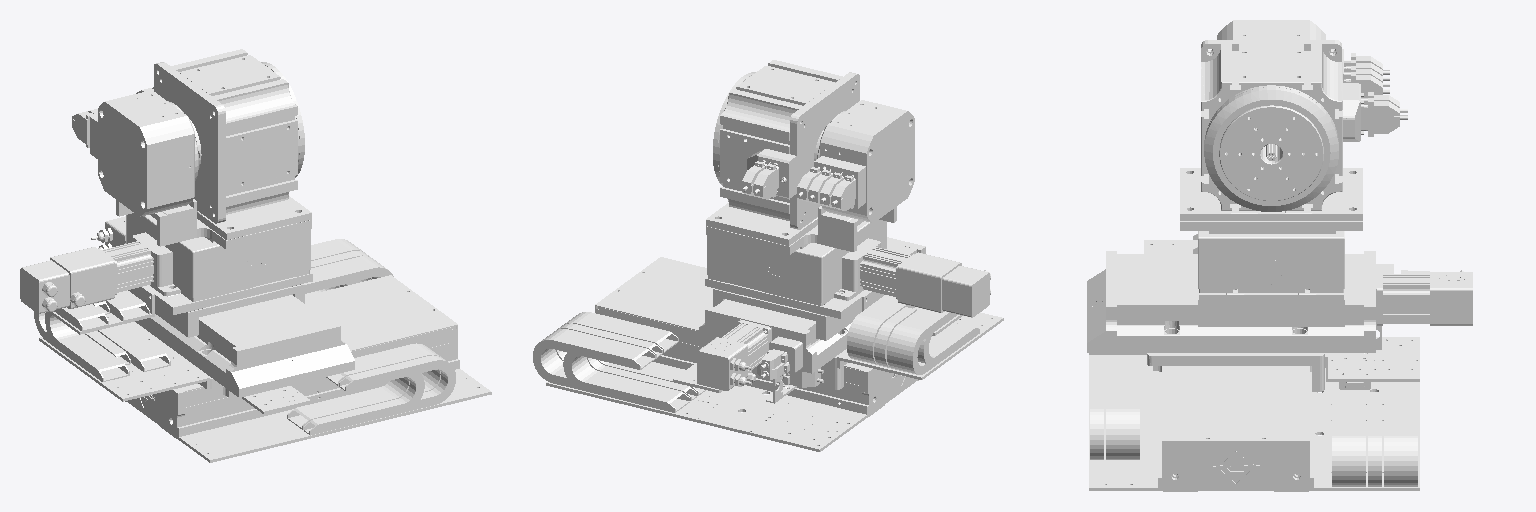
URDF robot description (Aeroteech):
<?xml version="1.0"?>
<robot name="Aeroteech">

  <material name="blue">
    <color rgba="0 0 0.8 1"/>
  </material>

  <material name="white">
    <color rgba="1 1 1 1"/>
  </material>

  <material name="grey">
    <color rgba="0.1 0.1 0.1 1"/>
  </material>


  <link name="base_link">
    <visual>
      <geometry>
        <mesh filename="package://smargon/meshes/aerotech/00_BASEbin.stl"/>
      </geometry>
      <material name="white"/>
      <origin rpy="1.570796 0 1.570796" xyz="0 0 0" />
    </visual>
  </link>

  <link name="xtrans">
    <visual>
      <geometry>
        <mesh filename="package://smargon/meshes/aerotech/01_XTRANSbin.stl"/>
      </geometry>
      <material name="white"/>
      <origin rpy="1.570796 0 1.570796" xyz="0 0 0" />
    </visual>
  </link>

<joint name="x-translation" type="prismatic">
  <axis xyz="1 0 0"/>
  <limit effort="1000.0" lower="0.0" upper="0.198" velocity="0.5"/>
  <parent link="base_link"/>
  <child link="xtrans"/>
  <origin xyz="-0.17557 0 0" />
</joint>

  <link name="ztrans">
    <visual>
      <geometry>
        <mesh filename="package://smargon/meshes/aerotech/02_ZTRANSbin.stl"/>
      </geometry>
      <material name="white"/>
      <origin rpy="1.570796 0 1.570796" xyz="0 0 0" />
    </visual>
  </link>

<joint name="z-translation" type="prismatic">
  <axis xyz="0 -1 0"/>
  <limit effort="1000.0" lower="0.0" upper="0.1" velocity="0.5"/>
  <parent link="xtrans"/>
  <child link="ztrans"/>
  <origin xyz="0 0.049333 0" />
</joint>

  <link name="ytrans">
    <visual>
      <geometry>
        <mesh filename="package://smargon/meshes/aerotech/03_YTRANSbin.stl"/>
      </geometry>
      <material name="white"/>
      <origin rpy="1.570796 0 1.570796" xyz="0 0 0" />
    </visual>
  </link>

<joint name="y-translation" type="prismatic">
  <axis xyz="0 0 1"/>
  <limit effort="1000.0" lower="0.0" upper="0.05" velocity="0.5"/>
   <parent link="ztrans"/>
  <child link="ytrans"/>
  <origin xyz="0 0 0" />
</joint>

  <link name="omega-rotation">
    <visual>
      <geometry>
        <mesh filename="package://smargon/meshes/aerotech/04_OMEGAROTbin.stl"/>
      </geometry>
      <material name="white"/>
      <origin rpy="1.570796 0 1.570796" xyz="0 0 -0.3561" />
    </visual>
  </link>

<joint name="omega" type="revolute">
  <axis xyz="1 0 0"/>
  <limit effort="1000.0" lower="-3.1416" upper="3.1416" velocity="0.5"/>
   <parent link="ytrans"/>
  <child link="omega-rotation"/>
  <origin xyz="0 0 0.3561" />
</joint>




</robot>

--- Facts derived from the render (not from the file) ---
The picture shows the robot from 3 angles, left to right: view 1: azimuth 30°, elevation 25°; view 2: azimuth 150°, elevation 25°; view 3: azimuth 270°, elevation 25°; orthographic projection.
Robot: Aeroteech — 5 links, 4 joints (1 revolute, 3 prismatic); root link base_link; default pose: every joint at zero.
Links seen in each view (by area): view 1: ytrans, base_link, xtrans, ztrans; view 2: ytrans, base_link, xtrans, ztrans; view 3: base_link, xtrans, ytrans, ztrans, omega-rotation.
Link boxes in pixels (bbox=[...]): ytrans: bbox=[72, 49, 311, 249]; base_link: bbox=[125, 239, 491, 462]; xtrans: bbox=[34, 216, 354, 413]; ztrans: bbox=[20, 213, 312, 337]; ytrans: bbox=[706, 60, 914, 254]; base_link: bbox=[533, 257, 918, 451]; xtrans: bbox=[673, 237, 1003, 403]; ztrans: bbox=[705, 220, 990, 340]; base_link: bbox=[1089, 337, 1419, 491]; xtrans: bbox=[1087, 234, 1472, 391]; ytrans: bbox=[1180, 20, 1407, 233]; ztrans: bbox=[1198, 231, 1344, 326]; omega-rotation: bbox=[1204, 87, 1338, 211].
Bounding box of the posed robot: 0.6895 × 0.5332 × 0.5082 m (x, y, z).
Meshes: 5 distinct files referenced, 5 mesh visuals loaded (5 binary STL).
